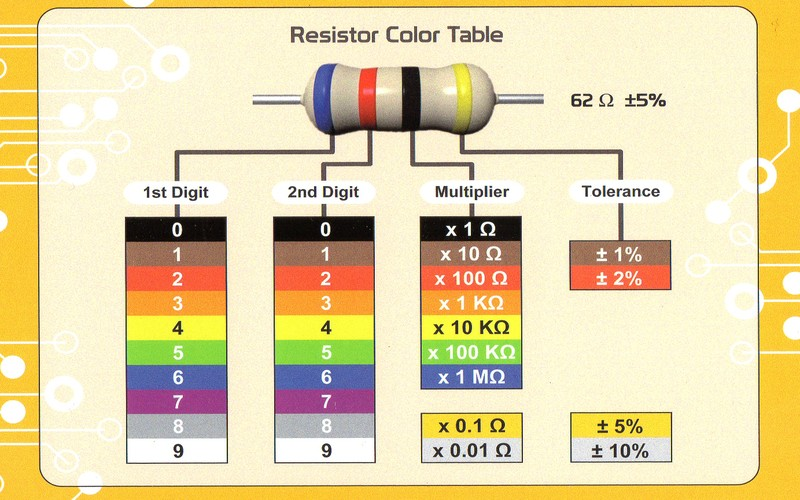Resistor: (242, 50, 556, 146)
